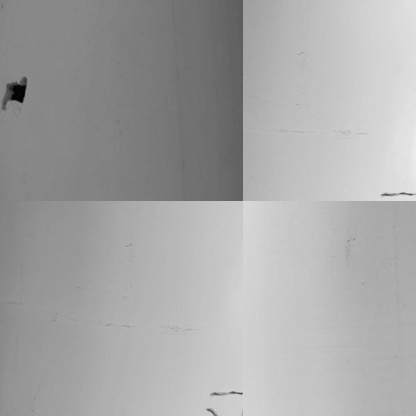fengxi: (206, 388, 247, 399), (205, 405, 217, 416)
sunshang: (1, 73, 28, 114)
